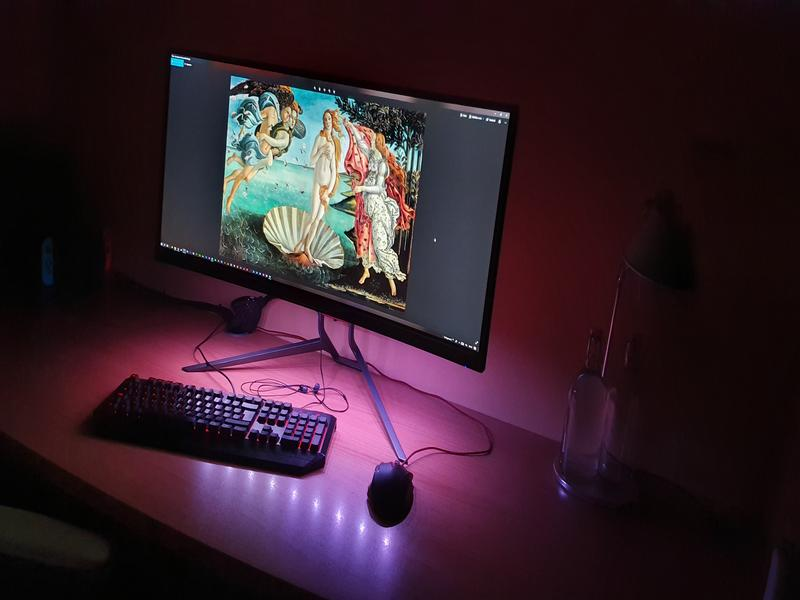Venere: (216, 74, 427, 316)
